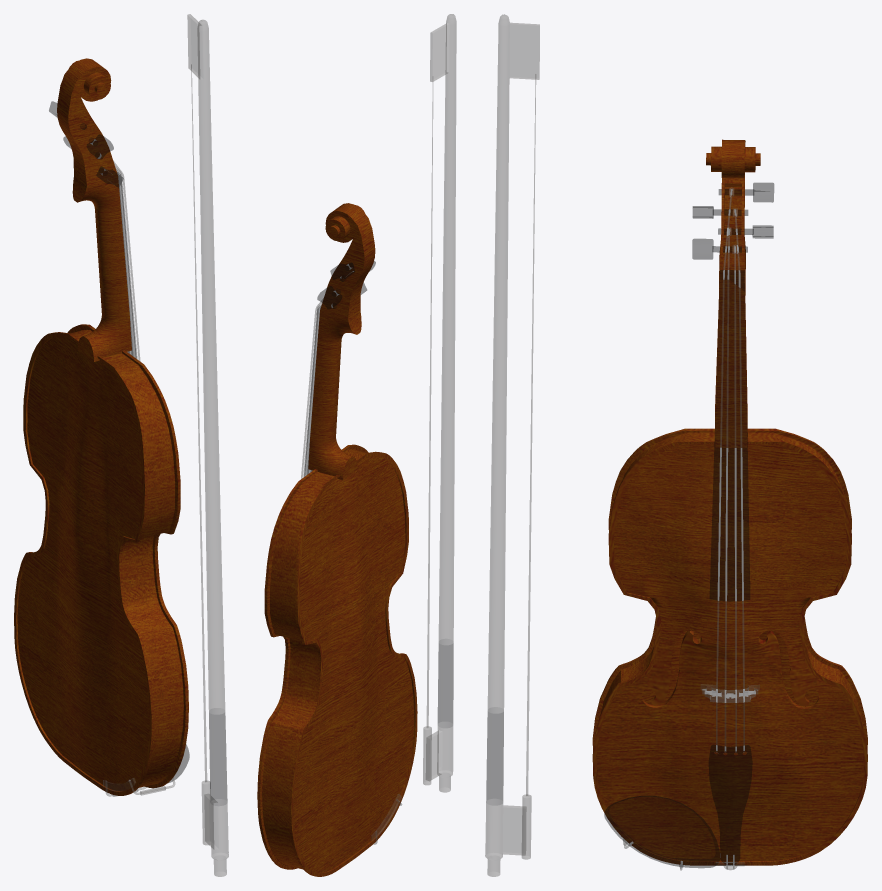
Rendered from violin.glb.
3 renders of one model, left to right at view 1: azimuth 30°, elevation 25°; view 2: azimuth 150°, elevation 25°; view 3: azimuth 270°, elevation 25°, orthographic. The views are drawn at different scales.
Parts seen in each view (by area): view 1: 10397_Violin_L1; view 2: 10397_Violin_L1; view 3: 10397_Violin_L1.
Part boxes in pixels (bbox=[...]): 10397_Violin_L1: bbox=[14, 14, 228, 876]; 10397_Violin_L1: bbox=[257, 14, 456, 876]; 10397_Violin_L1: bbox=[485, 14, 867, 876].
Size of the model in its own units: 4.03 by 36.62 by 14.88.
Materials: 3 (1 with a texture image).
